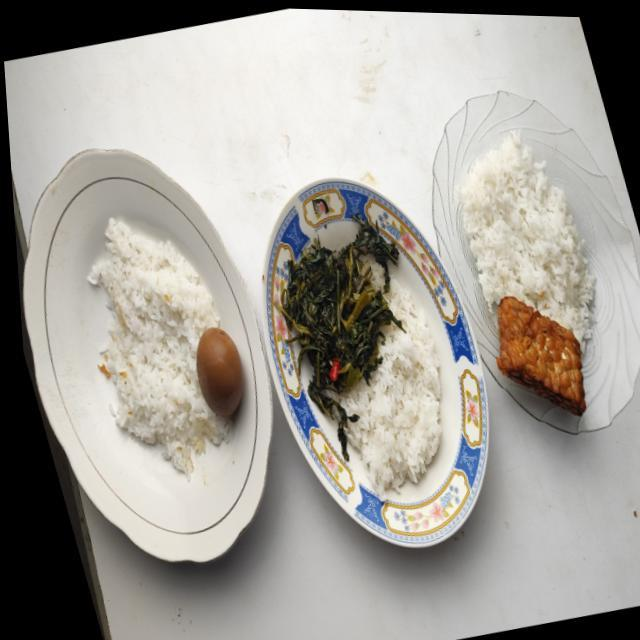nasi_putih: (88, 217, 228, 478), (458, 132, 592, 348), (339, 278, 442, 494)
tempe_goreng: (496, 296, 585, 414)
tumis_kangkung: (272, 216, 402, 458)
